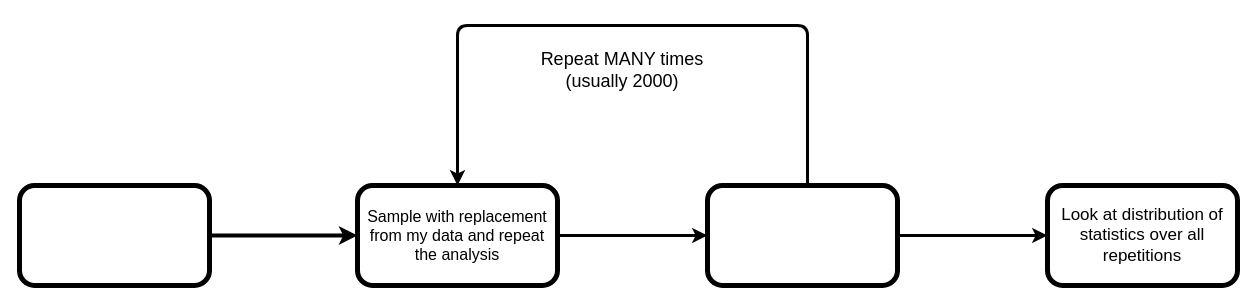
The diagram is 1257 pixels wide and 305 high, and some of its shapes have lost their labels. Here are the shapes that lost their labels. From the top down, the centre of each, then its label:
[114,235]: My data IS the population
[802,235]: Save the statistics you are interested in
